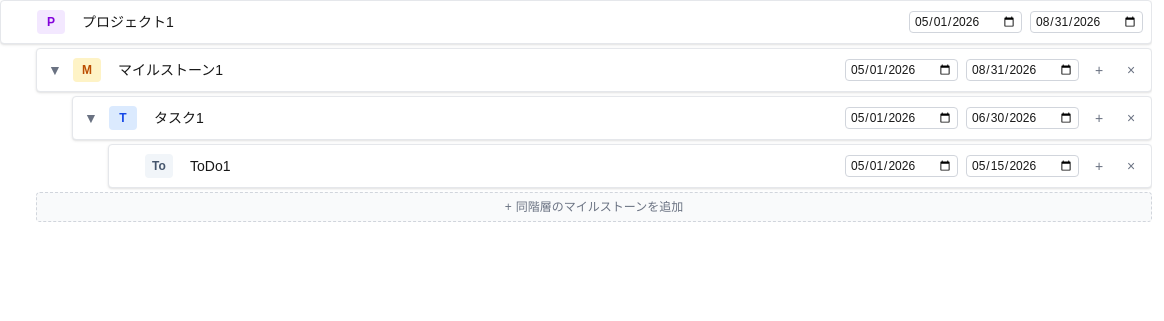
it: ManagementTree — セキュリティ regression › Server Action が特殊文字を含む id を返しても selector injection が起きない
This screenshot has width=1164, height=321.
追加処理が例外を投げず完了することを検証
Step 1. Click the button "+ 同階層のマイルストーンを追加" → coordinates (594, 207), box [36,192,1152,222]
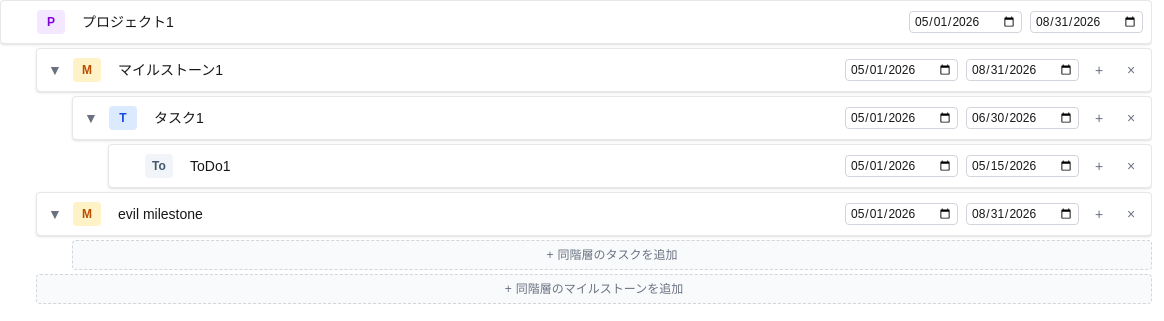
Check: the 5th field showing "evil milestone" is shown, box [109,199,837,229]
